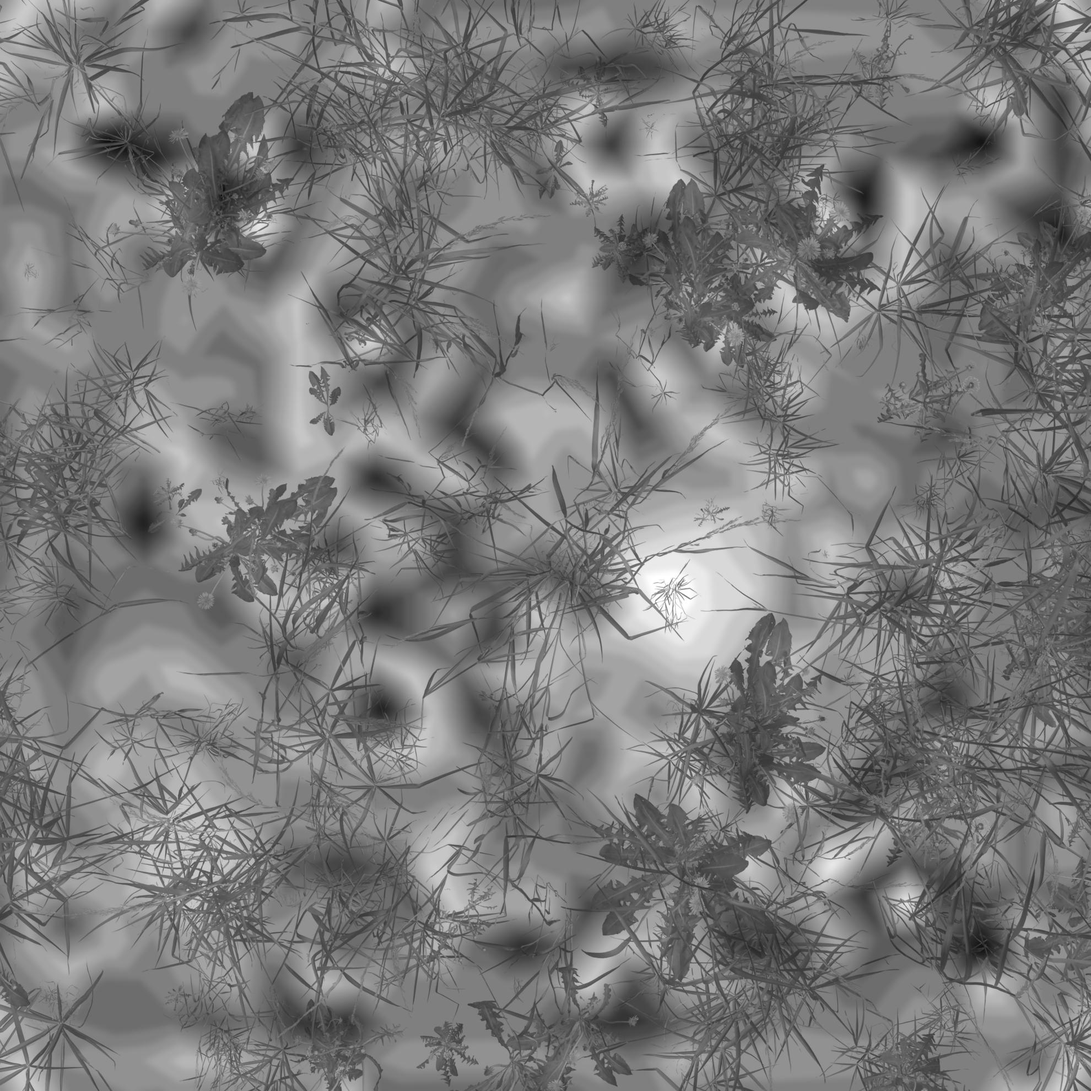landmine: (600, 511, 758, 658)
